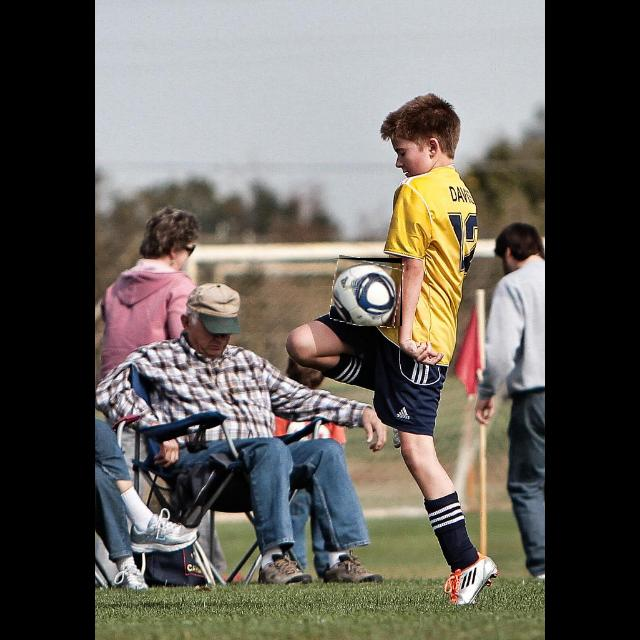Football: (332, 258, 402, 326)
